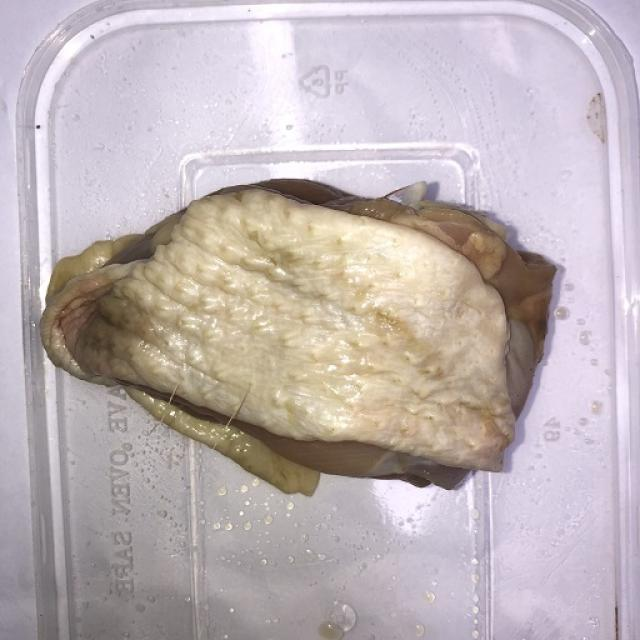Chicken: (36, 166, 571, 509)
